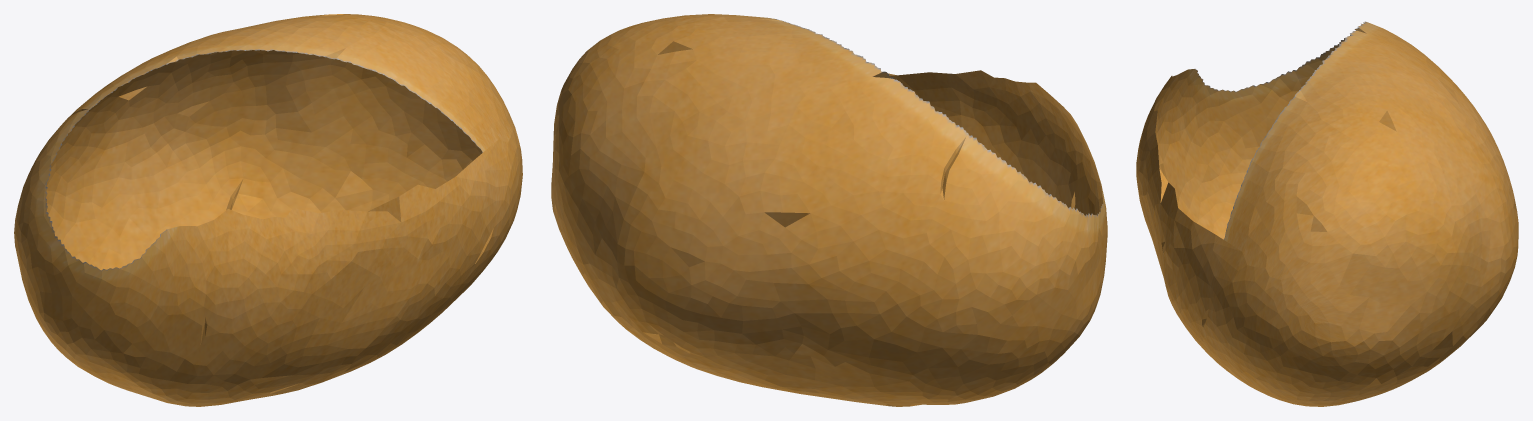
The model's file is 原土豆.fbx.
3 views of the same model, side by side, from view 1: azimuth 30°, elevation 25°; view 2: azimuth 150°, elevation 25°; view 3: azimuth 270°, elevation 25° (orthographic). The views are drawn at different scales.
Parts seen in each view (by area): view 1: 魔顿网免费C4D资源下载; view 2: 魔顿网免费C4D资源下载; view 3: 魔顿网免费C4D资源下载.
Boxes of the visible parts, <box> form: 魔顿网免费C4D资源下载: <box>14,14,522,406</box>; 魔顿网免费C4D资源下载: <box>551,14,1107,406</box>; 魔顿网免费C4D资源下载: <box>1136,21,1518,406</box>.
Bounding box in the file's own units: 137 × 88.27 × 98.96.
